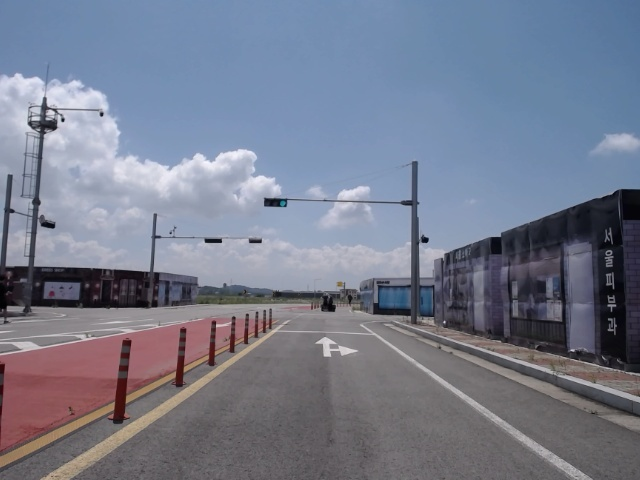green_3: (265, 198, 287, 207)
